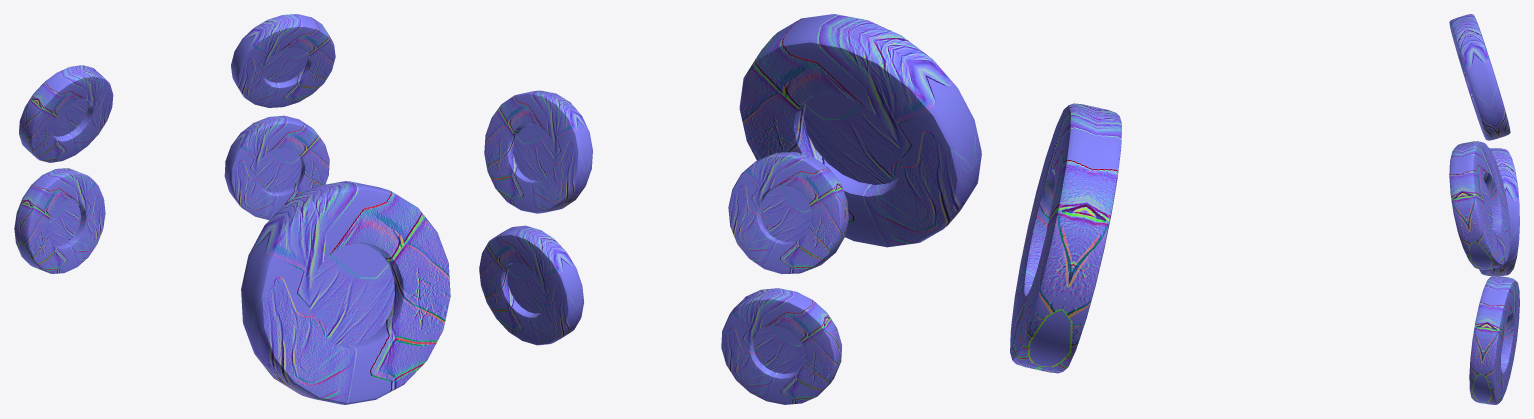
File: chestArmorGotena.fbx
3 views of the same model, side by side, from view 1: azimuth 30°, elevation 25°; view 2: azimuth 150°, elevation 25°; view 3: azimuth 270°, elevation 25° (orthographic). The views are drawn at different scales.
Parts seen in each view (by area): view 1: chrestArmorGotenaFront, chrestArmorGotenaBackLFT02, chrestArmorGotenaBackLFT01, chrestArmorGotenaBackRGT02, chrestArmorGotenaBackRGT01; view 2: chrestArmorGotenaFront, chrestArmorGotenaBackRGT01, chrestArmorGotenaBackRGT02, chrestArmorGotenaBackLFT01, chrestArmorGotenaBackLFT02; view 3: chrestArmorGotenaFront, chrestArmorGotenaBackLFT01, chrestArmorGotenaBackLFT02, chrestArmorGotenaBackRGT01, chrestArmorGotenaBackRGT02.
Part boxes in pixels (x1,y1,x2,y2): chrestArmorGotenaFront: (241, 181, 450, 404); chrestArmorGotenaBackLFT02: (224, 115, 329, 220); chrestArmorGotenaBackLFT01: (231, 14, 335, 107); chrestArmorGotenaBackRGT02: (14, 168, 105, 273); chrestArmorGotenaBackRGT01: (19, 65, 113, 162); chrestArmorGotenaFront: (739, 14, 981, 247); chrestArmorGotenaBackRGT01: (728, 152, 848, 274); chrestArmorGotenaBackRGT02: (721, 288, 841, 404); chrestArmorGotenaBackLFT01: (484, 90, 592, 213); chrestArmorGotenaBackLFT02: (479, 225, 584, 345); chrestArmorGotenaFront: (1010, 103, 1121, 373); chrestArmorGotenaBackLFT01: (1449, 141, 1510, 269); chrestArmorGotenaBackLFT02: (1469, 275, 1519, 404); chrestArmorGotenaBackRGT01: (1449, 14, 1510, 140); chrestArmorGotenaBackRGT02: (1479, 148, 1519, 275).
Bounding box in the file's own units: 1.09 × 0.7688 × 1.28.
